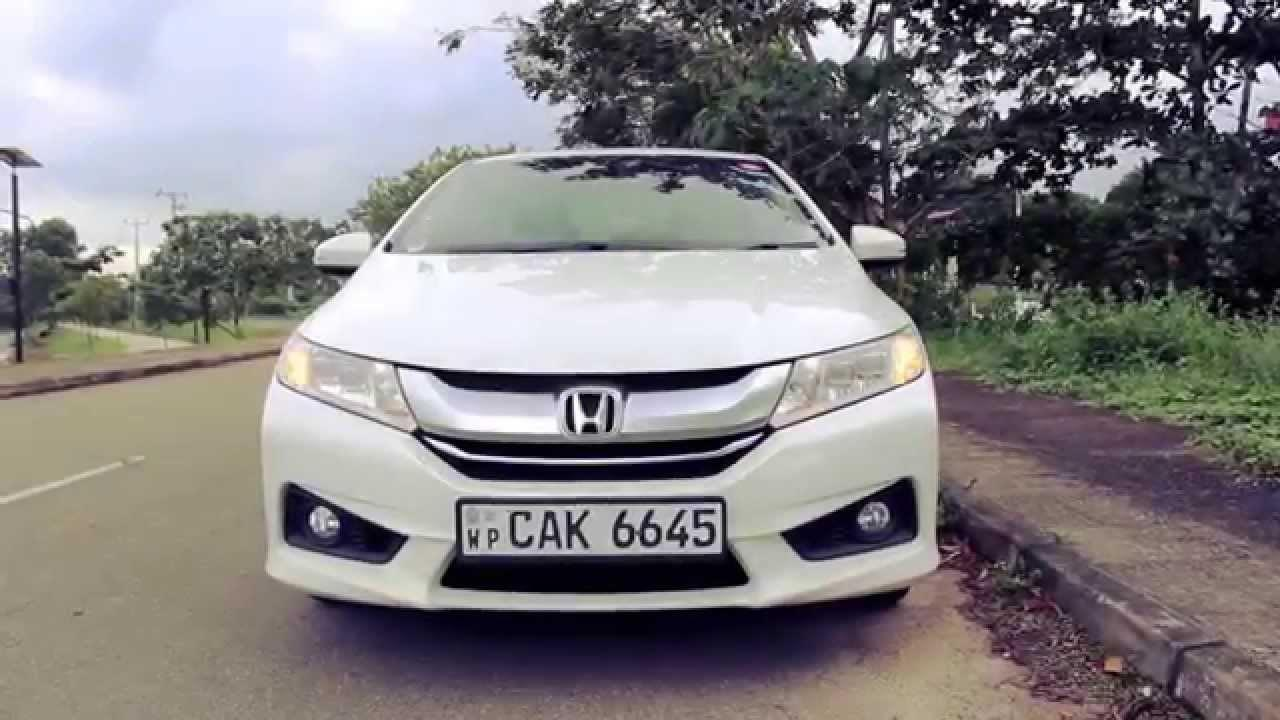license-plate: (460, 501, 722, 554)
